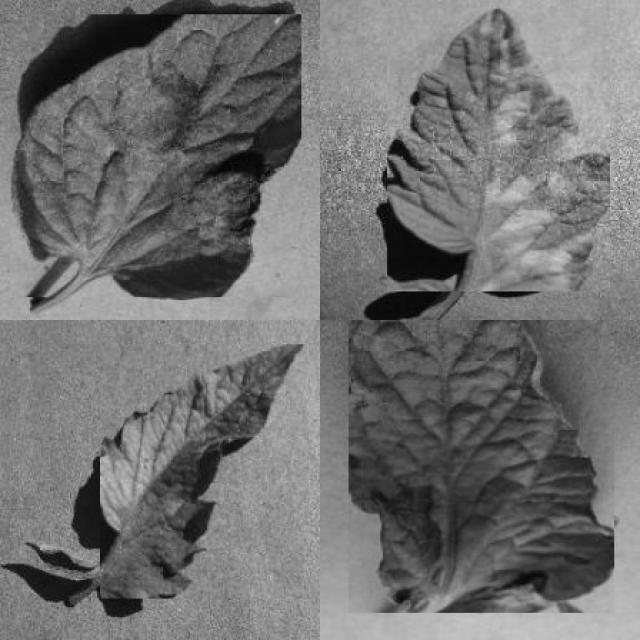Early Blight: (349, 320, 614, 613)
Late Blight: (11, 14, 302, 297)
Leaf Mold: (387, 9, 610, 292), (100, 344, 308, 599)
